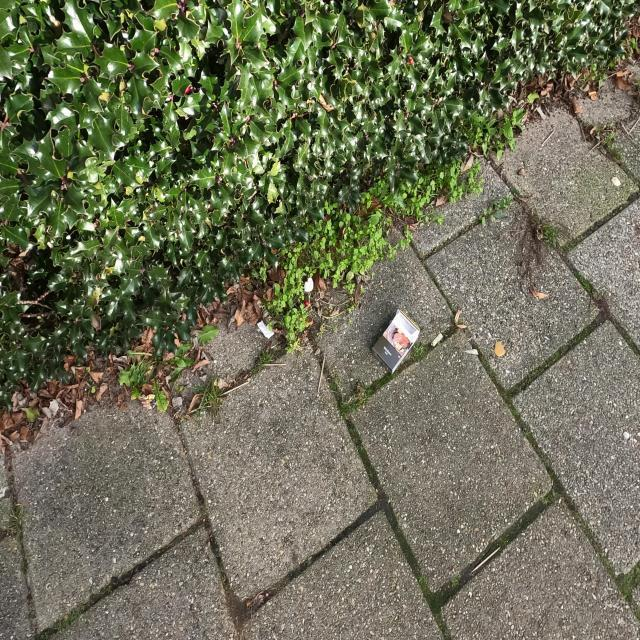Paper: (369, 308, 422, 376)
